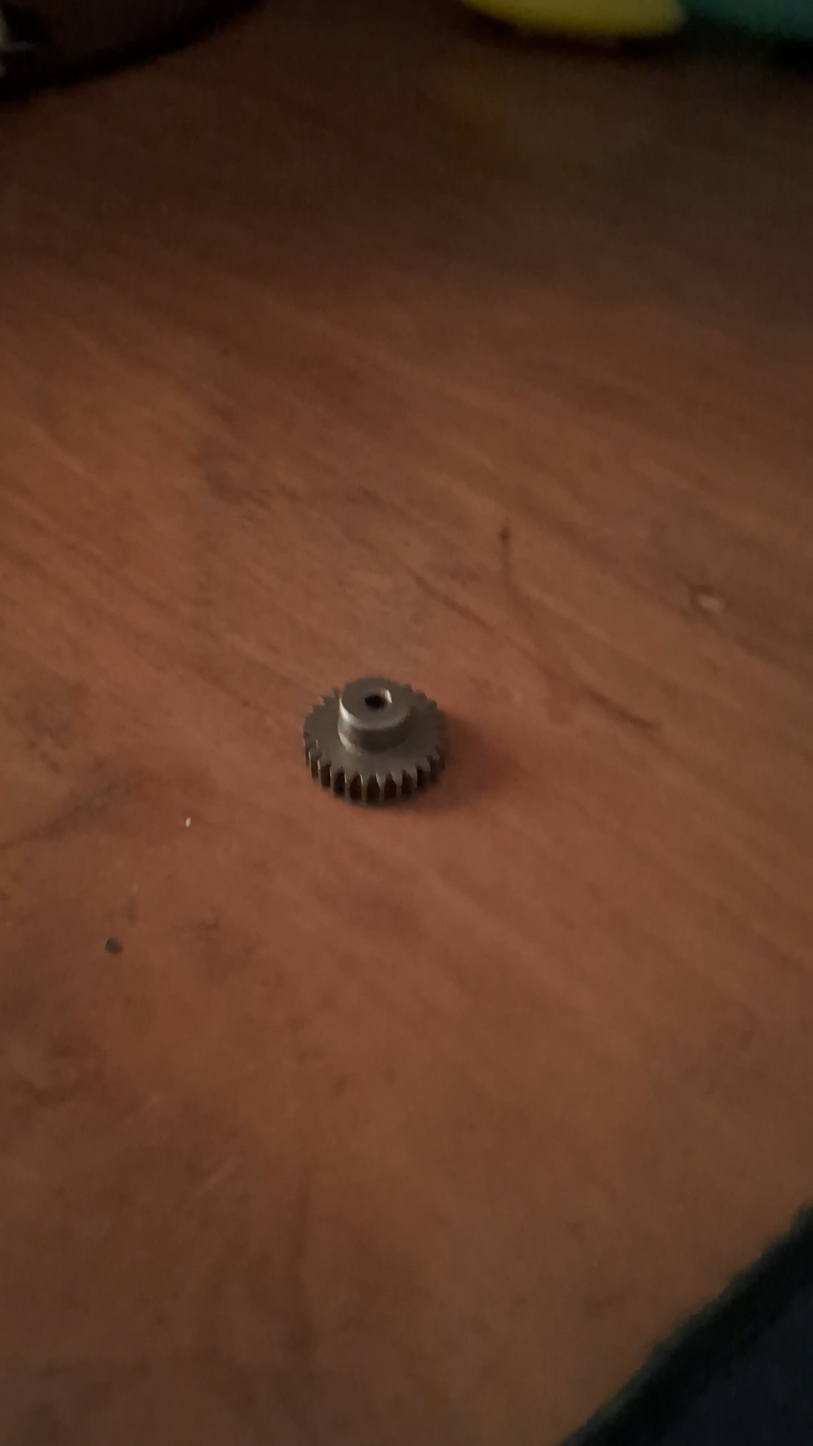spur gear: (303, 678, 446, 804)
